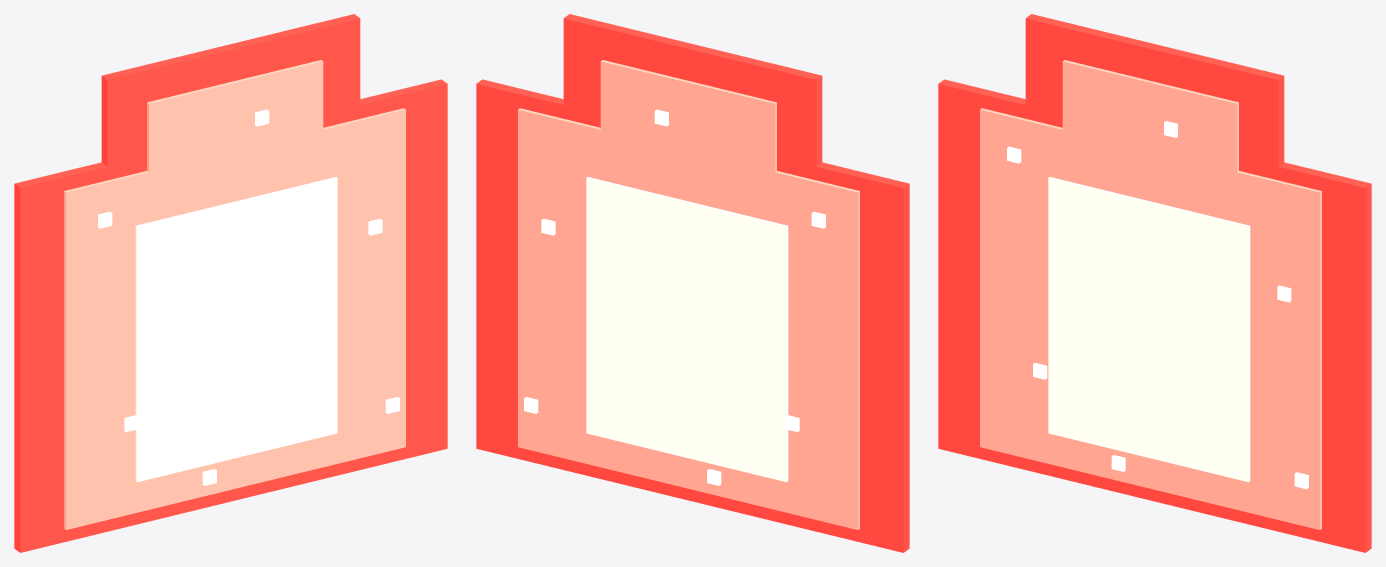
The model's file is th-portal-red.glb.
3 renders of one model, left to right at view 1: azimuth 30°, elevation 25°; view 2: azimuth 150°, elevation 25°; view 3: azimuth 330°, elevation 25°, orthographic.
Visible parts, largest first — view 1: box-prop; view 2: box-prop; view 3: box-prop.
Boxes of the visible parts, x1,y1,x2,y2 form: box-prop: (14,14,447,552); box-prop: (476,14,909,552); box-prop: (938,14,1371,552).
Bounding box in the file's own units: 4.9 × 4.95 × 0.34.
